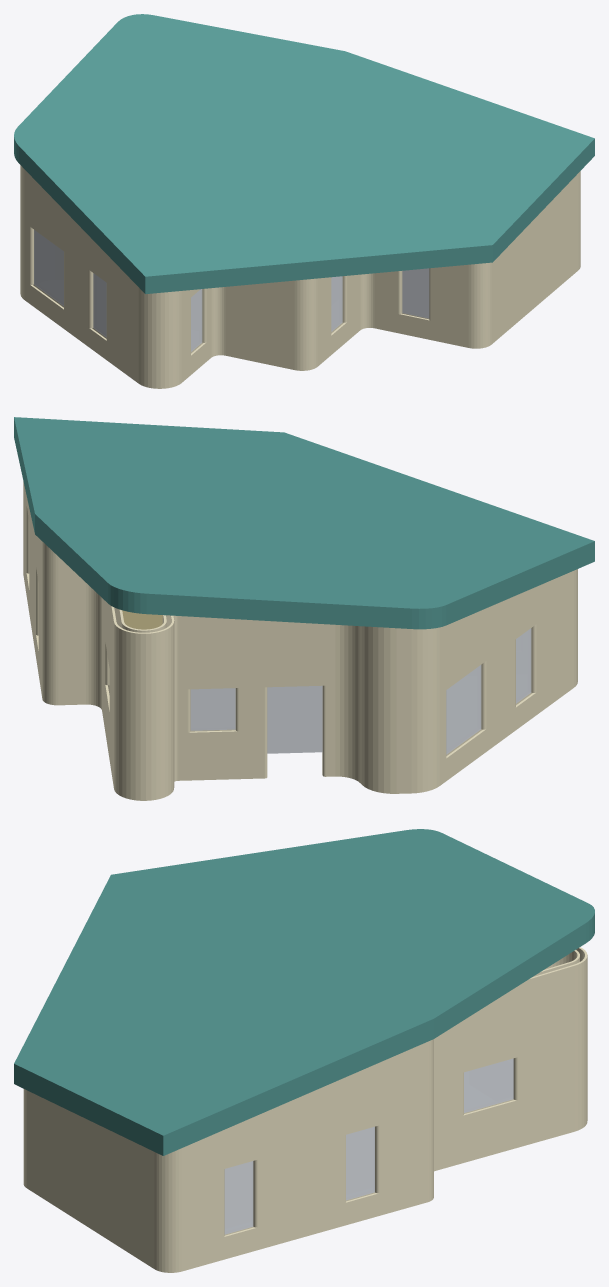
File: Mark6.glb
3 renders of one model, top to bottom at view 1: azimuth 30°, elevation 25°; view 2: azimuth 150°, elevation 25°; view 3: azimuth 270°, elevation 25°, orthographic. The views are drawn at different scales.
Bounding box in the file's own units: 42.46 × 15.46 × 38.76.
